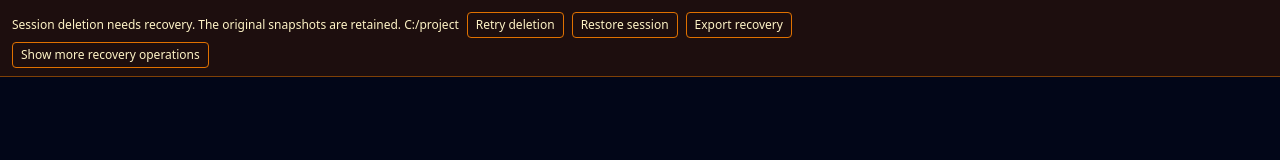
appends the next recovery page using the retained operation count
The image size is (1280, 160).
What coordinates should you click on to do the following:
click the button "Show more recovery operations"
I would click on:
 (110, 55)
Its box is [12,42,209,68].
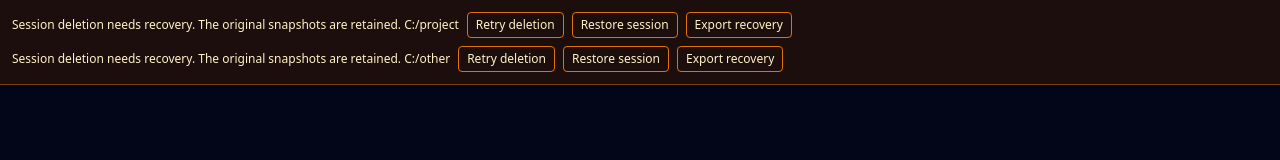
Expected: the text "C:/other" is shown, [404,50,450,67]
Expected: the number of buttons is 6, [467,12,564,38]; [572,12,678,38]; [686,12,792,38]; [458,46,555,72]; [563,46,669,72]; [677,46,783,72]
Expected: the text "Show more recovery operations" is gone
